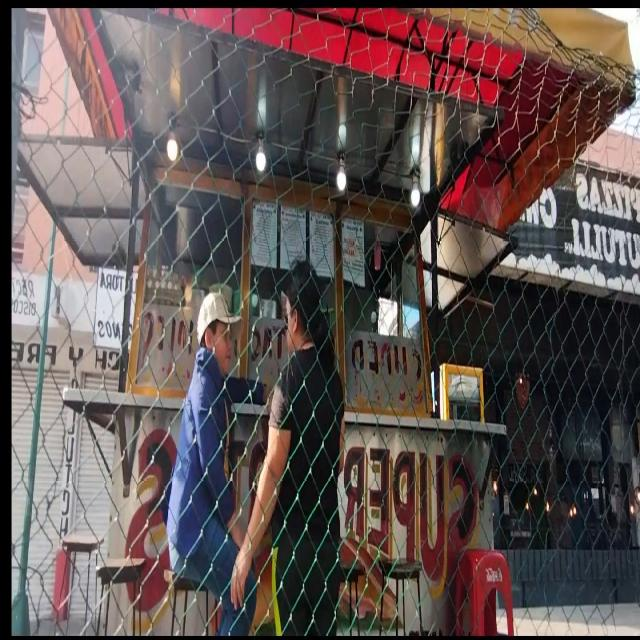adult: (232, 255, 344, 640), (169, 289, 260, 640)
